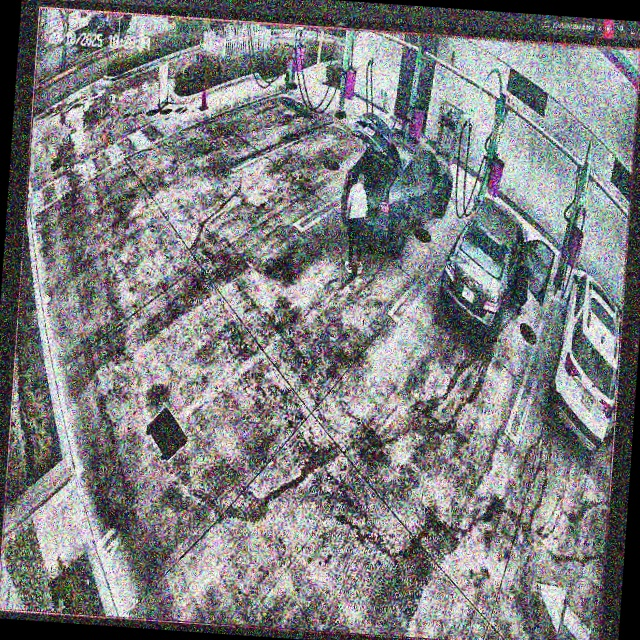Car: (438, 192, 553, 343), (340, 108, 458, 253)
